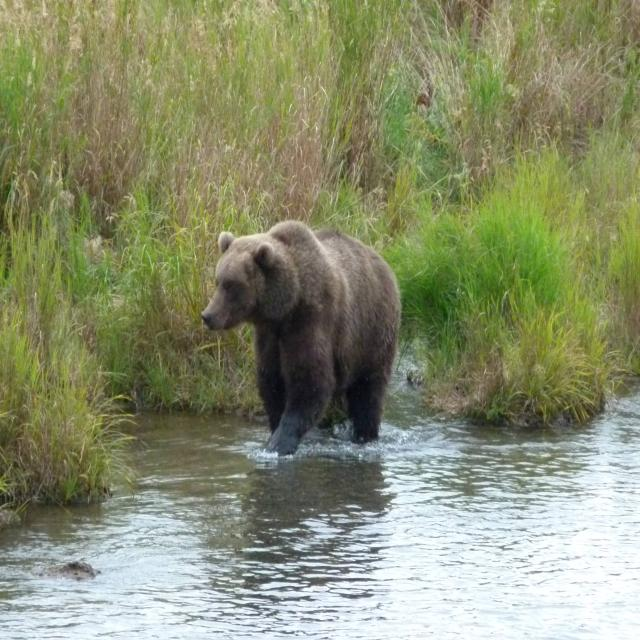bear face: (199, 221, 399, 453)
